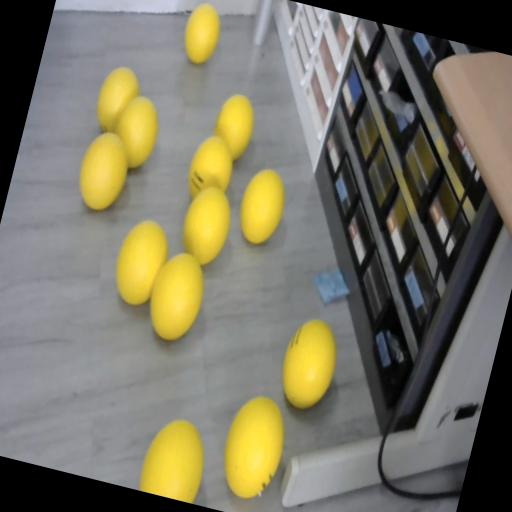FUEL: (214, 391, 294, 504), (141, 246, 212, 346), (274, 314, 345, 414), (136, 412, 214, 503), (106, 214, 176, 310), (72, 126, 136, 216), (174, 182, 239, 270), (232, 164, 292, 248), (90, 62, 145, 138), (208, 90, 260, 164), (177, 0, 226, 68)
